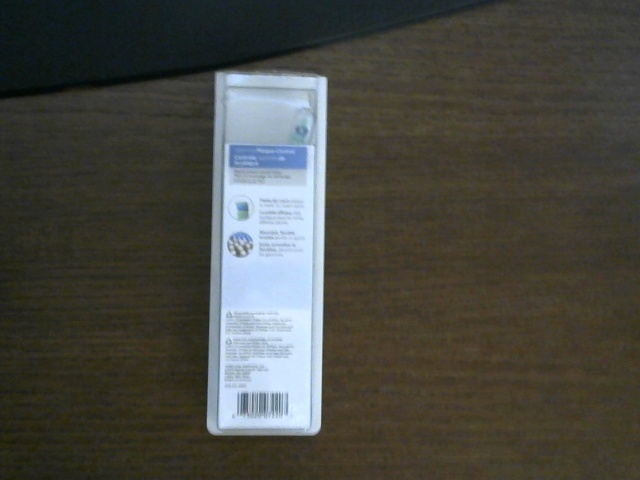Barcode: (234, 390, 289, 418)
